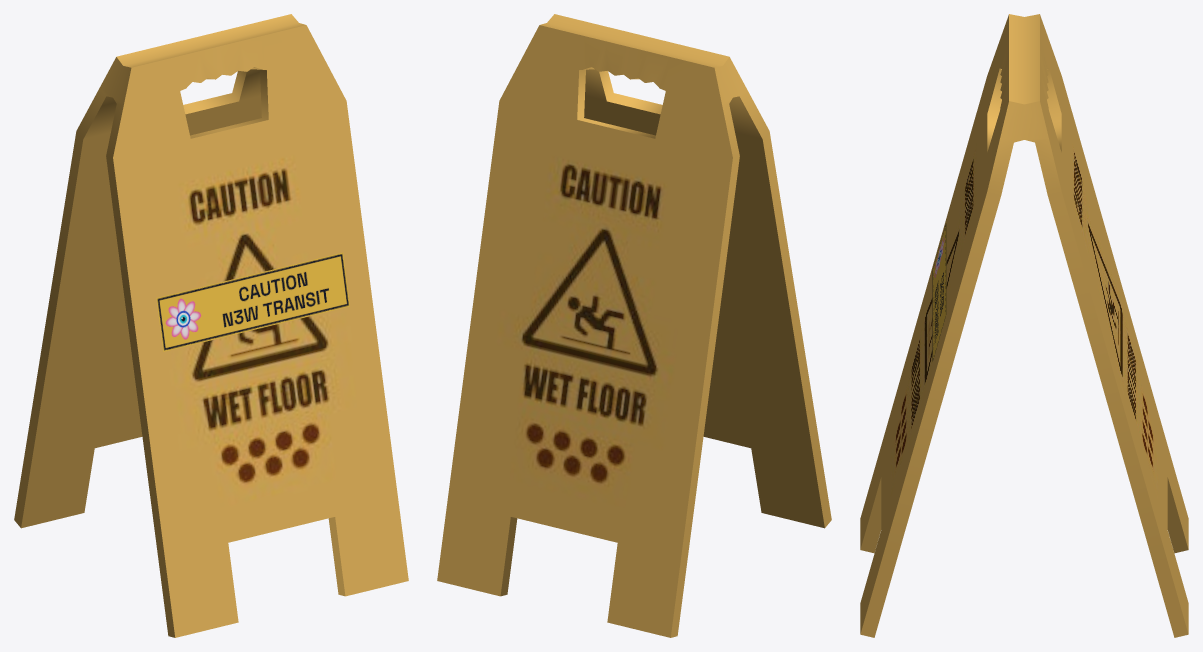
The model's file is nyb_pelham_wetfloor.glb.
3 renders of one model, left to right at view 1: azimuth 30°, elevation 25°; view 2: azimuth 150°, elevation 25°; view 3: azimuth 270°, elevation 25°, orthographic.
Parts seen in each view (by area): view 1: WetFloorSign_01, stk_lbl_cdc732a902.png; view 2: WetFloorSign_01; view 3: WetFloorSign_01, stk_lbl_cdc732a902.png.
Part boxes in pixels (<box>): WetFloorSign_01: <box>14,14,408,637</box>; stk_lbl_cdc732a902.png: <box>156,252,349,351</box>; WetFloorSign_01: <box>437,14,831,637</box>; WetFloorSign_01: <box>860,14,1188,637</box>; stk_lbl_cdc732a902.png: <box>932,222,946,362</box>.
Size of the model in its own units: 0.3001 by 0.6295 by 0.3585.
2 materials, 2 textured.
